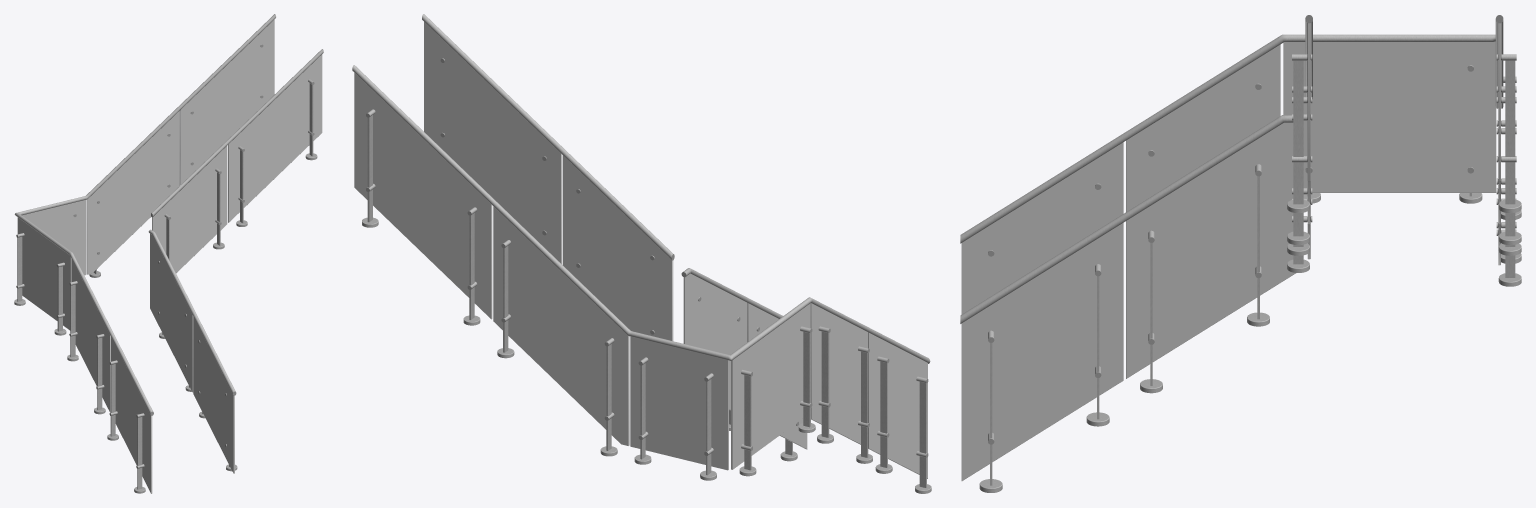
The model's file is L-Shaped_Railing_Kubit.gltf.
3 renders of one model, left to right at view 1: azimuth 30°, elevation 25°; view 2: azimuth 150°, elevation 25°; view 3: azimuth 270°, elevation 25°, orthographic. The views are drawn at different scales.
Parts seen in each view (by area): view 1: Casework 1 Casework 1 [8738332], Infill_Glass_Raked & Horizontal Generic [8736296], Infill_Glass_Raked & Horizontal Generic [8200579], Infill_Glass_Raked & Horizontal Generic [8199751], Infill_Glass_Raked & Horizontal Generic [8738822], Infill_Glass_Transition Generic [8202170], Infill_Glass_Raked & Horizontal Generic [8202939], Infill_Glass_Raked & Horizontal Generic [8735940], Infill_Glass_Raked & Horizontal Generic [8739593], Infill_Glass_Raked & Horizontal Generic [8737682], Object, Generic Models 11 Generic Models 11 [8762451]005 (+8 smaller); view 2: Infill_Glass_Raked & Horizontal Generic [8200579], Infill_Glass_Raked & Horizontal Generic [8736296], Casework 1 Casework 1 [8738332], Infill_Glass_Raked & Horizontal Generic [8199751], Infill_Glass_Raked & Horizontal Generic [8737682], Infill_Glass_Raked & Horizontal Generic [8738822], Infill_Glass_Raked & Horizontal Generic [8735940], Infill_Glass_Raked & Horizontal Generic [8739593], Infill_Glass_Transition Generic [8202170], Object, Generic Models 11 Generic Models 11 [8762451]005, Infill_Glass_Raked & Horizontal Generic [8202939] (+7 smaller); view 3: Infill_Glass_Raked & Horizontal Generic [8738822], Infill_Glass_Transition Generic [8202170], Infill_Glass_Raked & Horizontal Generic [8202939], Infill_Glass_Raked & Horizontal Generic [8735940], Infill_Glass_Raked & Horizontal Generic [8739593], Generic Models 1 Generic Models 1 [8568048], Generic Models 10 Generic Models 1 [8735975], Object, LS147 & LS148 - Kubit Post Material LS Material [8739192]029, LS147 & LS148 - Kubit Post Material LS Material [8739192]040, Infill_Glass_Raked & Horizontal Generic [8200579].
Boxes of the visible parts, x1=… form: Casework 1 Casework 1 [8738332]: x1=86, y1=111, x2=179, y2=274; Infill_Glass_Raked & Horizontal Generic [8736296]: x1=180, y1=19, x2=274, y2=184; Infill_Glass_Raked & Horizontal Generic [8200579]: x1=228, y1=54, x2=322, y2=222; Infill_Glass_Raked & Horizontal Generic [8199751]: x1=152, y1=146, x2=227, y2=273; Infill_Glass_Raked & Horizontal Generic [8738822]: x1=17, y1=217, x2=71, y2=330; Infill_Glass_Transition Generic [8202170]: x1=150, y1=234, x2=193, y2=392; Infill_Glass_Raked & Horizontal Generic [8202939]: x1=193, y1=316, x2=234, y2=473; Infill_Glass_Raked & Horizontal Generic [8735940]: x1=111, y1=337, x2=152, y2=493; Infill_Glass_Raked & Horizontal Generic [8739593]: x1=71, y1=259, x2=110, y2=412; Infill_Glass_Raked & Horizontal Generic [8737682]: x1=22, y1=200, x2=85, y2=275; Object: x1=14, y1=14, x2=275, y2=253; Generic Models 11 Generic Models 11 [8762451]005: x1=151, y1=49, x2=323, y2=217; Infill_Glass_Raked & Horizontal Generic [8200579]: x1=424, y1=22, x2=561, y2=263; Infill_Glass_Raked & Horizontal Generic [8736296]: x1=354, y1=73, x2=492, y2=319; Casework 1 Casework 1 [8738332]: x1=493, y1=206, x2=629, y2=445; Infill_Glass_Raked & Horizontal Generic [8199751]: x1=562, y1=155, x2=673, y2=340; Infill_Glass_Raked & Horizontal Generic [8737682]: x1=630, y1=336, x2=728, y2=470; Infill_Glass_Raked & Horizontal Generic [8738822]: x1=731, y1=303, x2=810, y2=469; Infill_Glass_Raked & Horizontal Generic [8735940]: x1=868, y1=332, x2=927, y2=478; Infill_Glass_Raked & Horizontal Generic [8739593]: x1=810, y1=303, x2=867, y2=444; Infill_Glass_Transition Generic [8202170]: x1=683, y1=273, x2=747, y2=410; Object: x1=352, y1=65, x2=809, y2=360; Generic Models 11 Generic Models 11 [8762451]005: x1=422, y1=14, x2=674, y2=260; Infill_Glass_Raked & Horizontal Generic [8202939]: x1=747, y1=303, x2=807, y2=449; Infill_Glass_Raked & Horizontal Generic [8738822]: x1=1283, y1=42, x2=1496, y2=192; Infill_Glass_Transition Generic [8202170]: x1=1126, y1=122, x2=1295, y2=378; Infill_Glass_Raked & Horizontal Generic [8202939]: x1=961, y1=223, x2=1123, y2=480; Infill_Glass_Raked & Horizontal Generic [8735940]: x1=961, y1=142, x2=1123, y2=314; Infill_Glass_Raked & Horizontal Generic [8739593]: x1=1126, y1=44, x2=1280, y2=211; Generic Models 1 Generic Models 1 [8568048]: x1=960, y1=115, x2=1293, y2=323; Generic Models 10 Generic Models 1 [8735975]: x1=960, y1=34, x2=1290, y2=243; Object: x1=1290, y1=15, x2=1503, y2=108; LS147 & LS148 - Kubit Post Material LS Material [8739192]029: x1=1293, y1=60, x2=1303, y2=204; LS147 & LS148 - Kubit Post Material LS Material [8739192]040: x1=1505, y1=60, x2=1515, y2=204; Infill_Glass_Raked & Horizontal Generic [8200579]: x1=1307, y1=23, x2=1310, y2=224.
Bounding box in the file's own units: 3.07 × 3.51 × 2.79.
